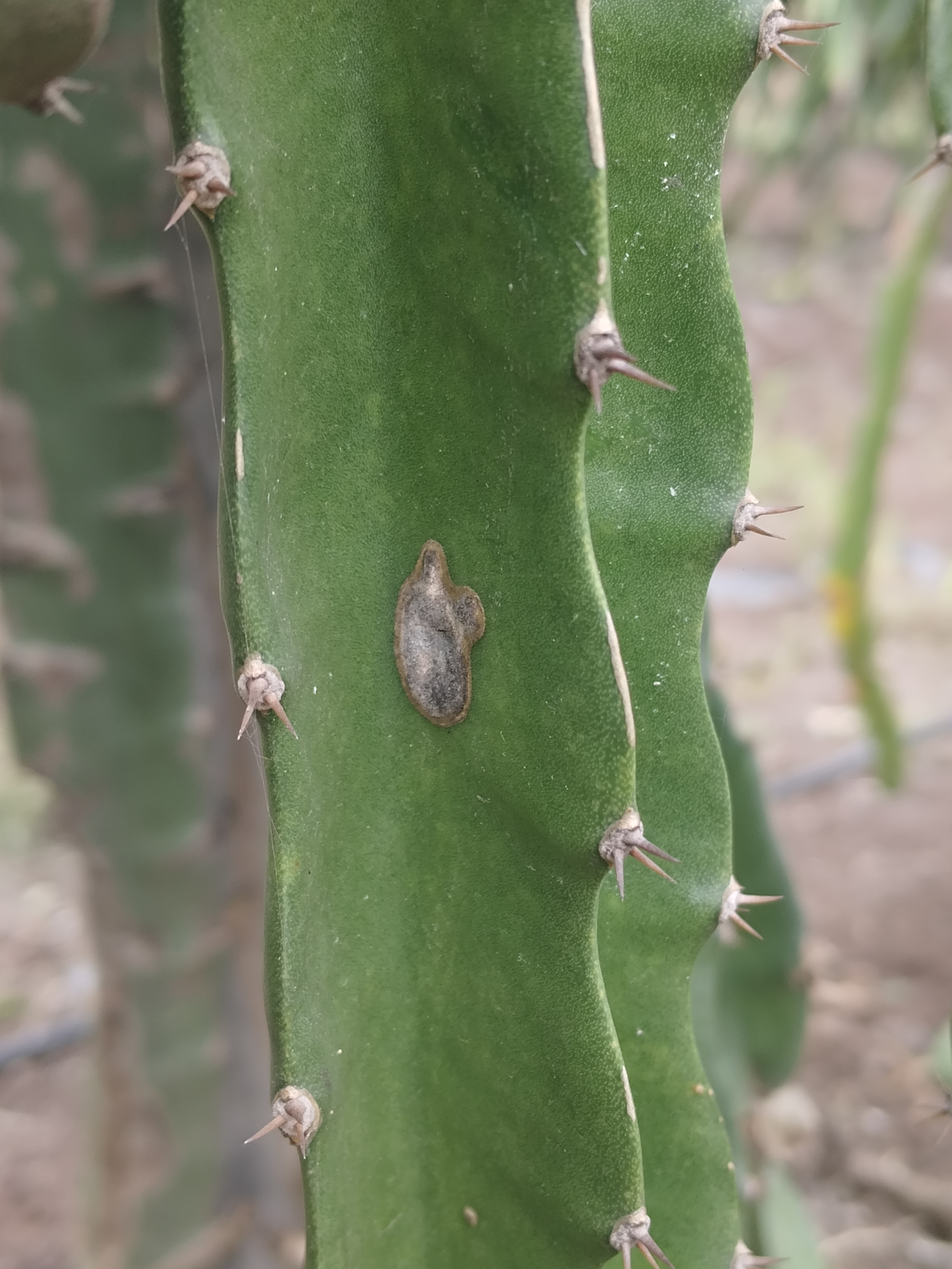stemcanker: (388, 531, 487, 729)
